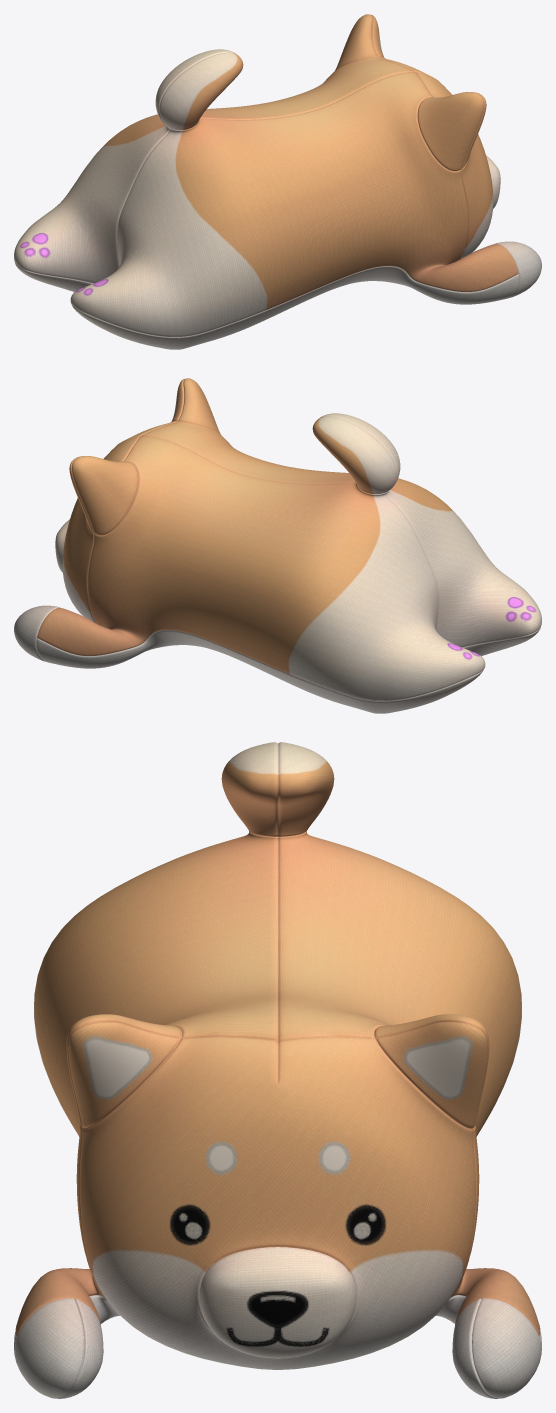
The model's file is akita.fbx.
The picture shows the model from 3 angles, top to bottom: view 1: azimuth 30°, elevation 25°; view 2: azimuth 150°, elevation 25°; view 3: azimuth 270°, elevation 25°; orthographic projection. The views are drawn at different scales.
Visible parts, largest first — view 1: Akita; view 2: Akita; view 3: Akita.
Part boxes in pixels (x1=…): Akita: x1=14, y1=14, x2=541, y2=349; Akita: x1=14, y1=378, x2=541, y2=713; Akita: x1=14, y1=742, x2=541, y2=1398.
Size of the model in its own units: 254 by 140 by 149.
Materials: 1 (1 with a texture image).
